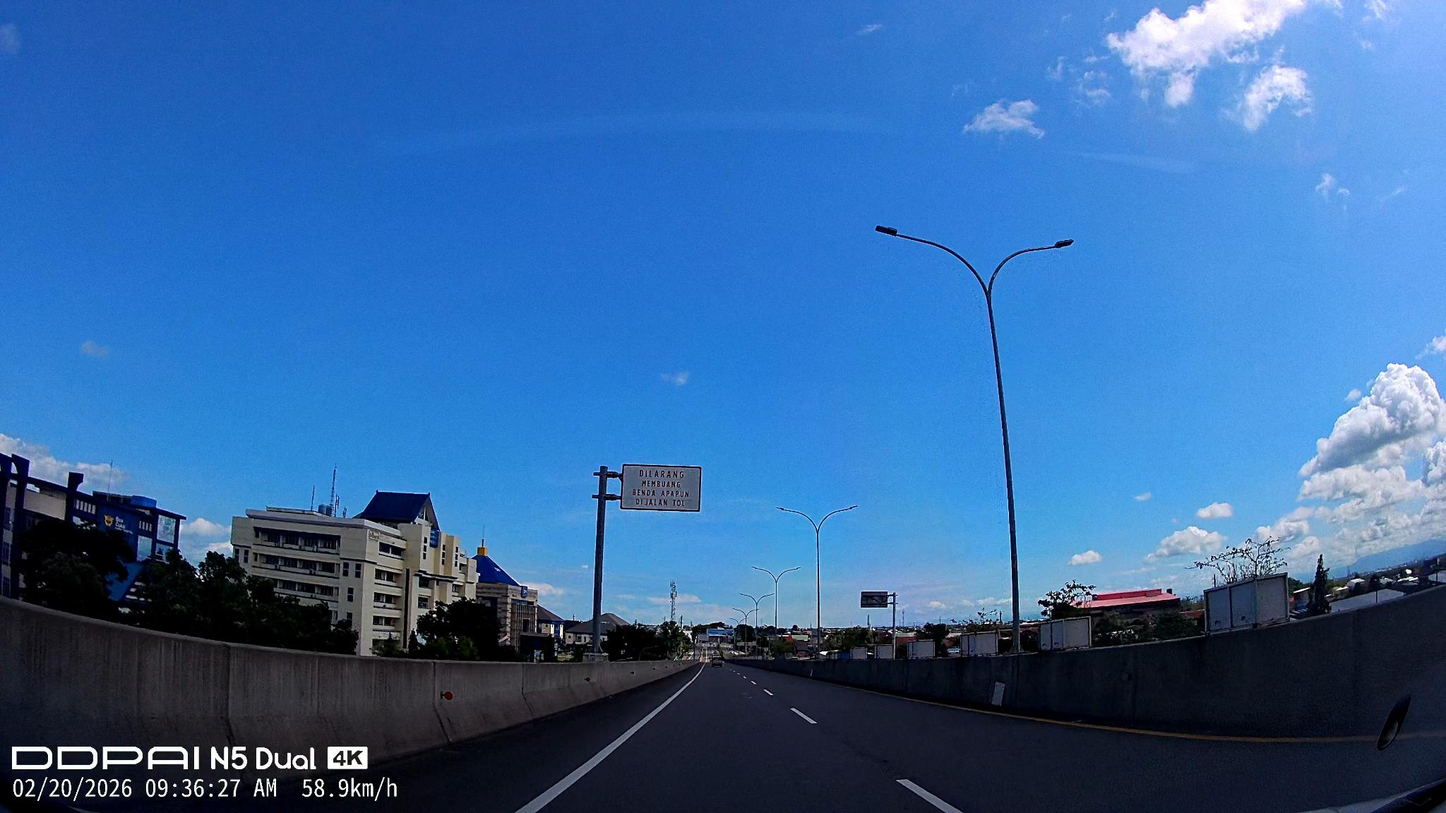rambu_teks: (620, 463, 702, 513)
